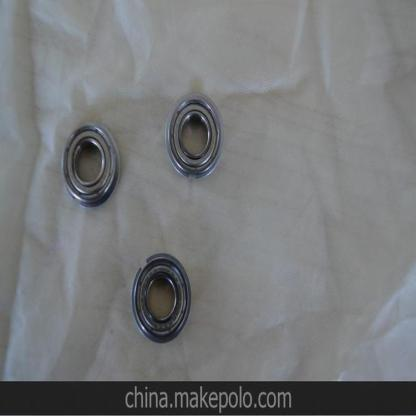FOD: (128, 248, 193, 346), (58, 119, 122, 210), (163, 91, 225, 184)
